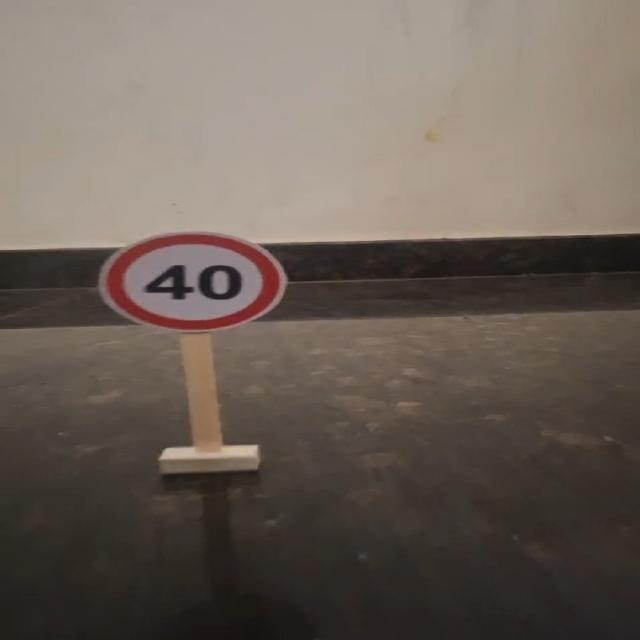Speed40: (94, 228, 292, 336)
